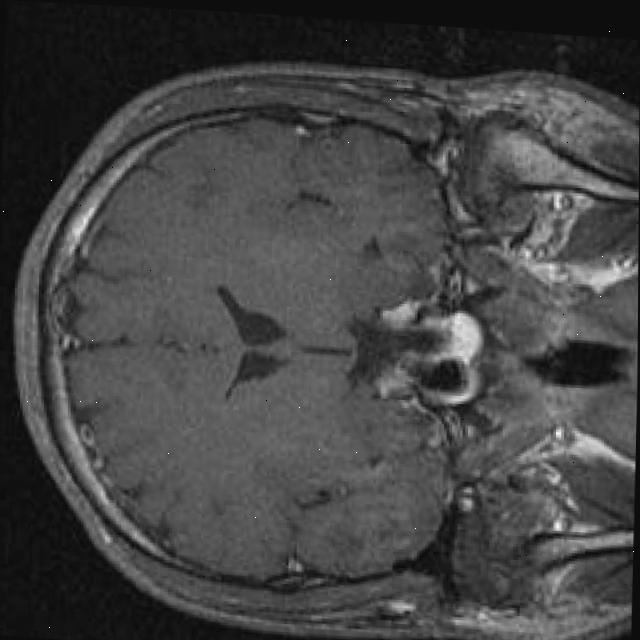Pituitary: (439, 307, 481, 367)
